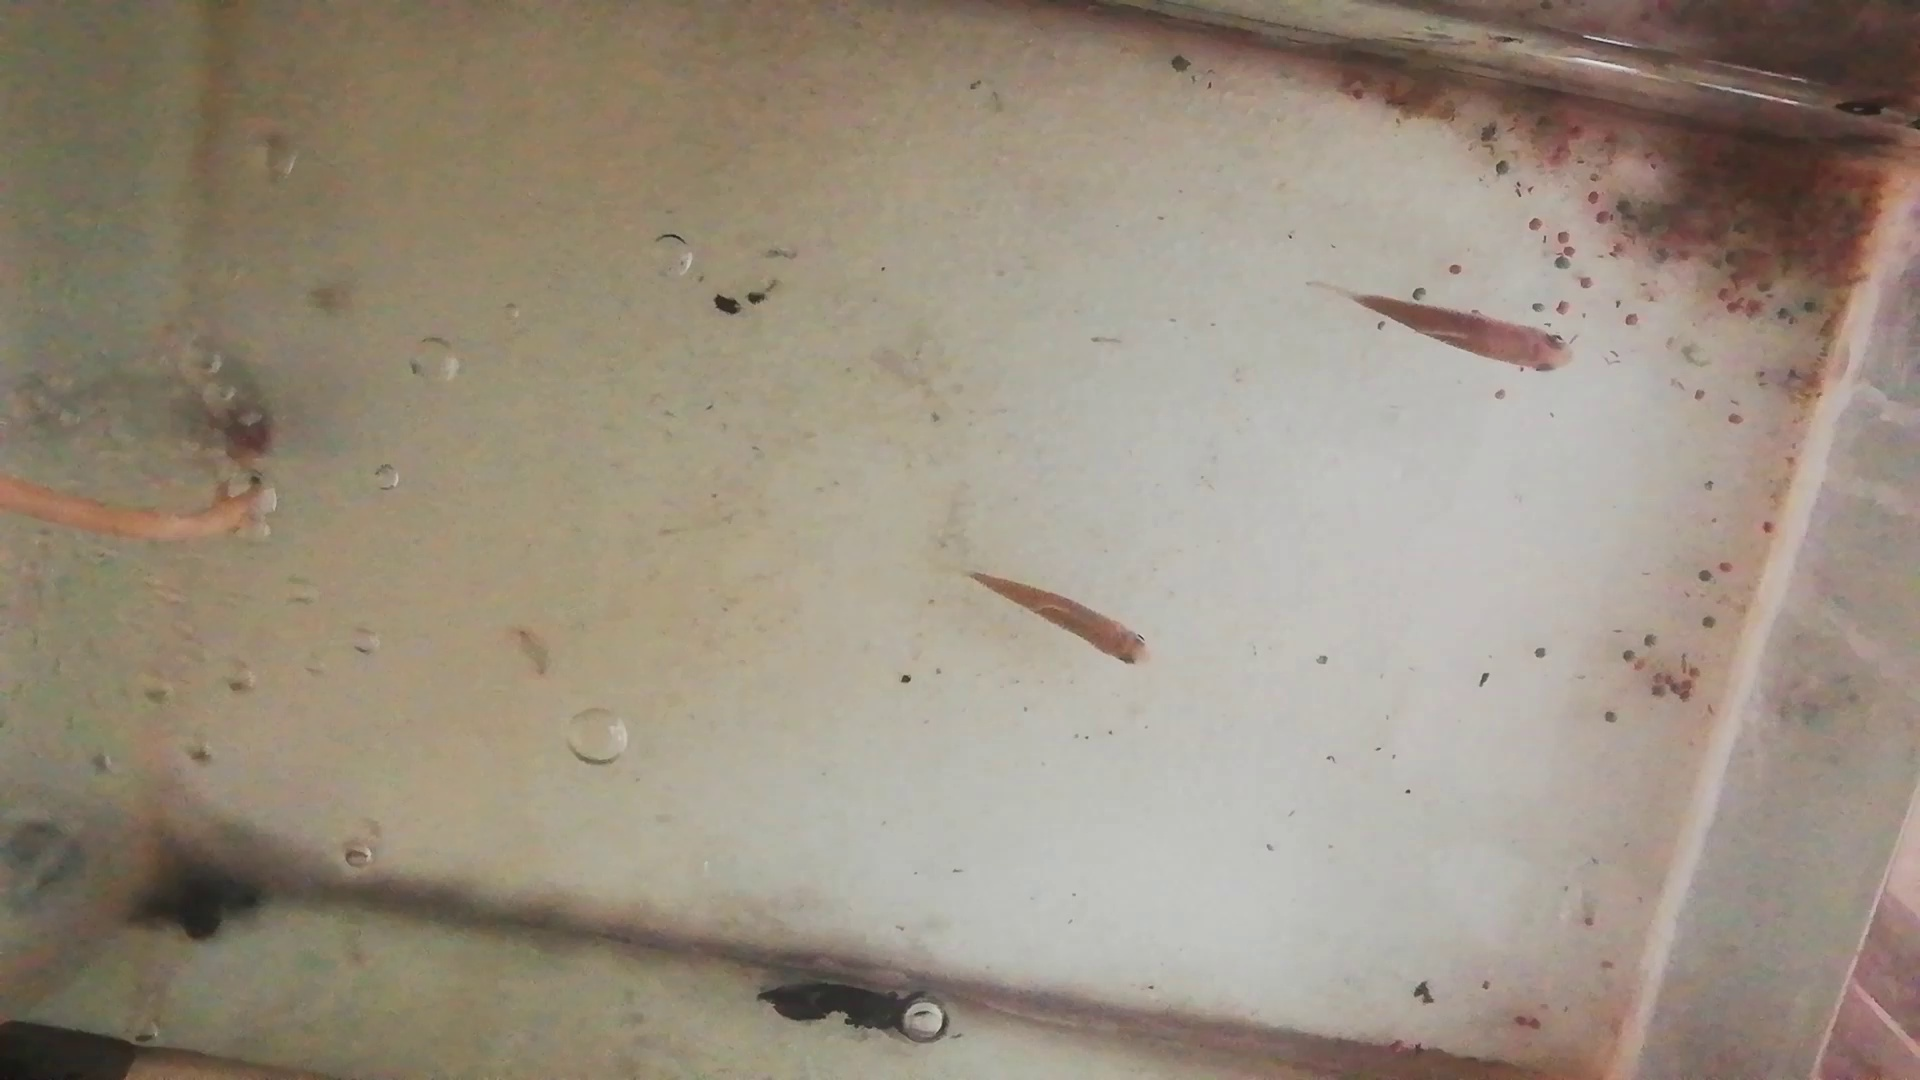fish: (1352, 287, 1575, 376), (967, 566, 1154, 663)
